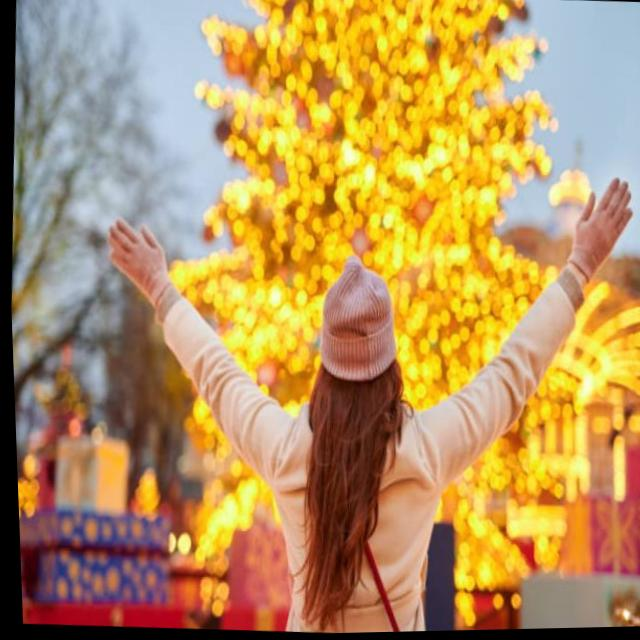no helmet: (281, 247, 421, 453)
